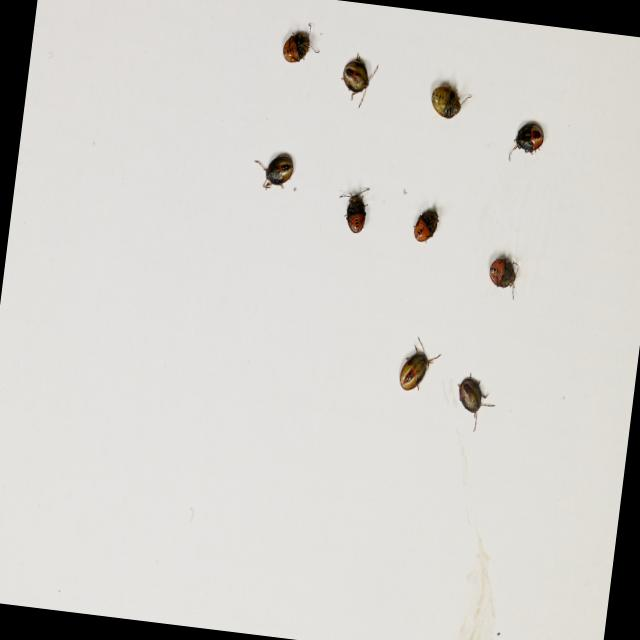stinkbug: (396, 336, 442, 397)
